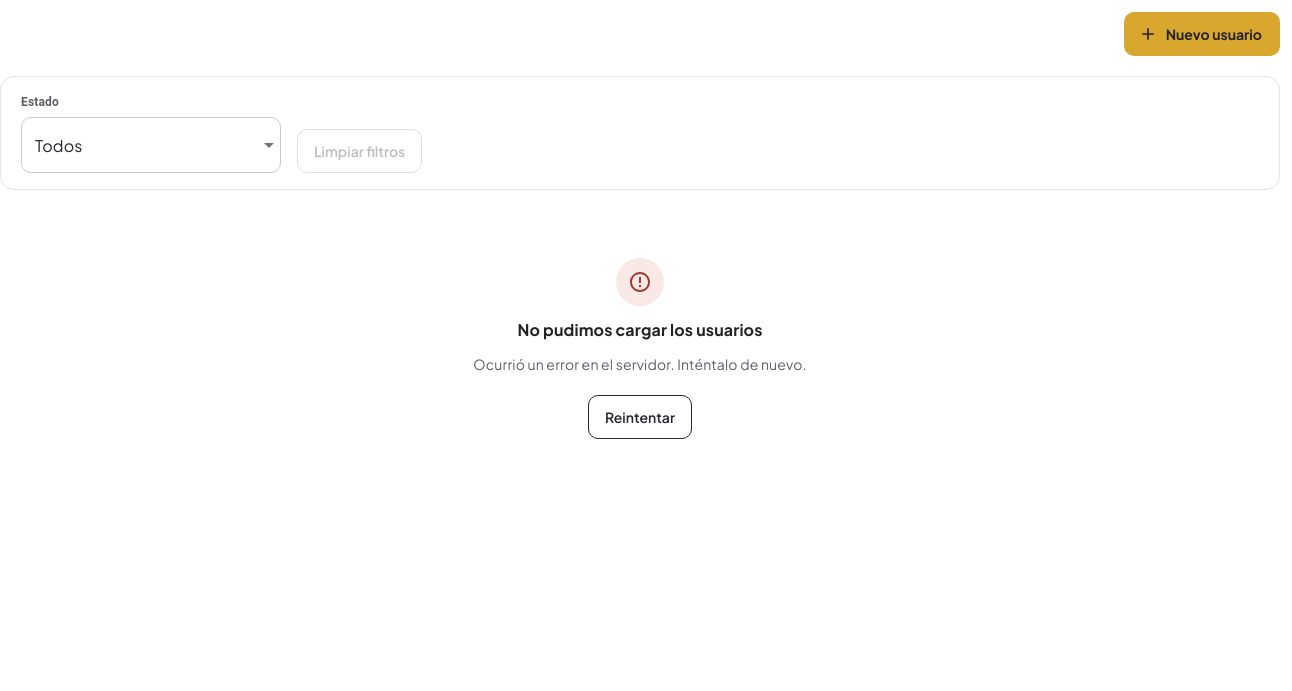
Test: UsersPage › shows the error and loads again with Reintentar
expect the heading "No pudimos cargar los usuarios" is shown: met, box [517,318,763,342]
Step 1. Click the button "Reintentar" → (640, 417), box [588,395,692,439]
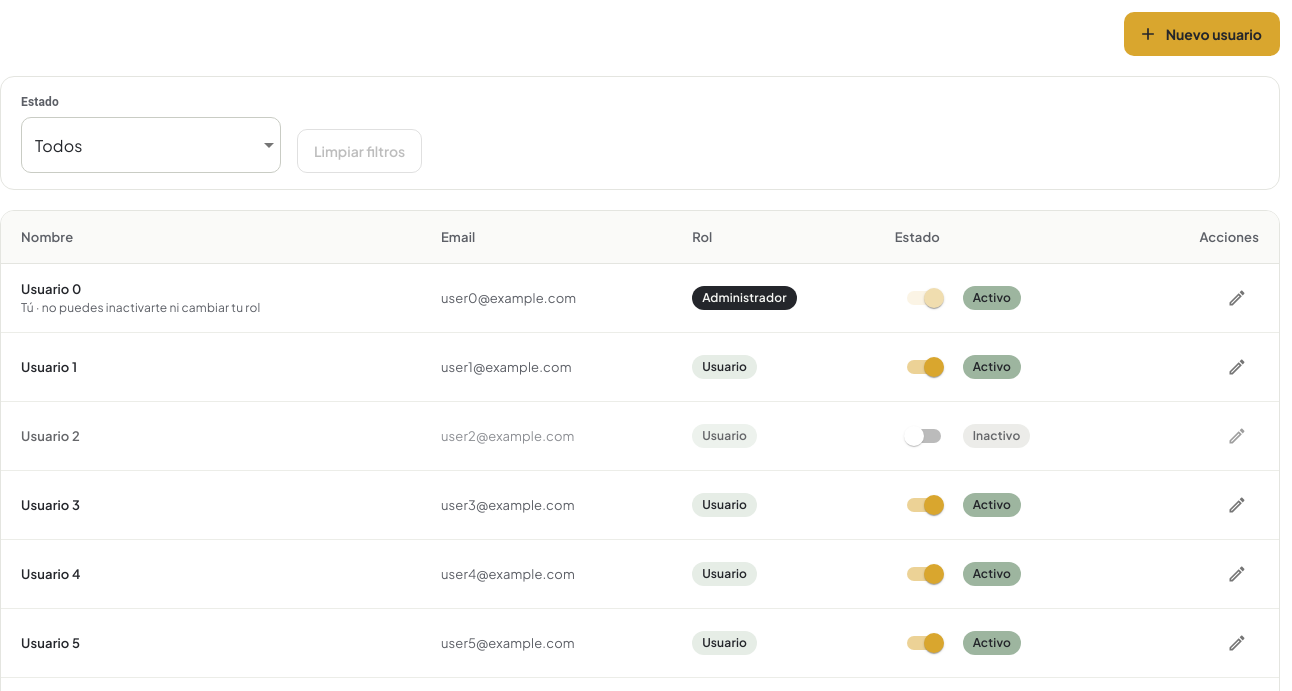
expect the text "Usuario 1" is shown: met, box [21,359,77,375]
